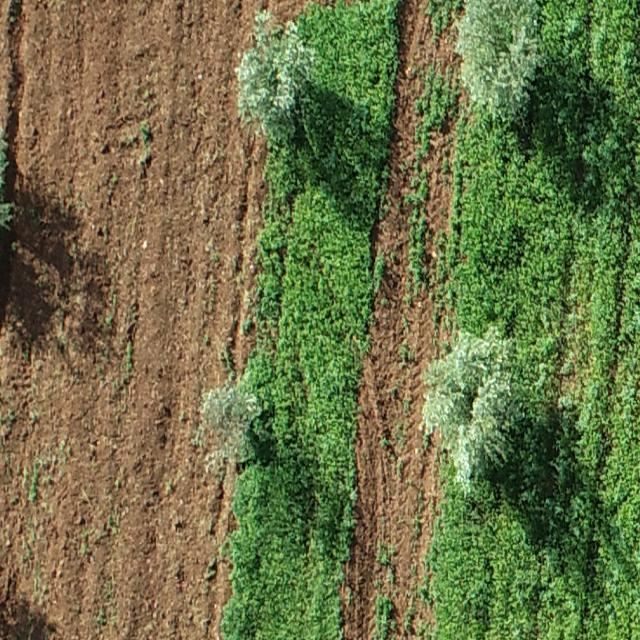trees: (424, 327, 514, 491), (236, 11, 314, 142), (458, 1, 542, 119), (194, 385, 261, 478)
